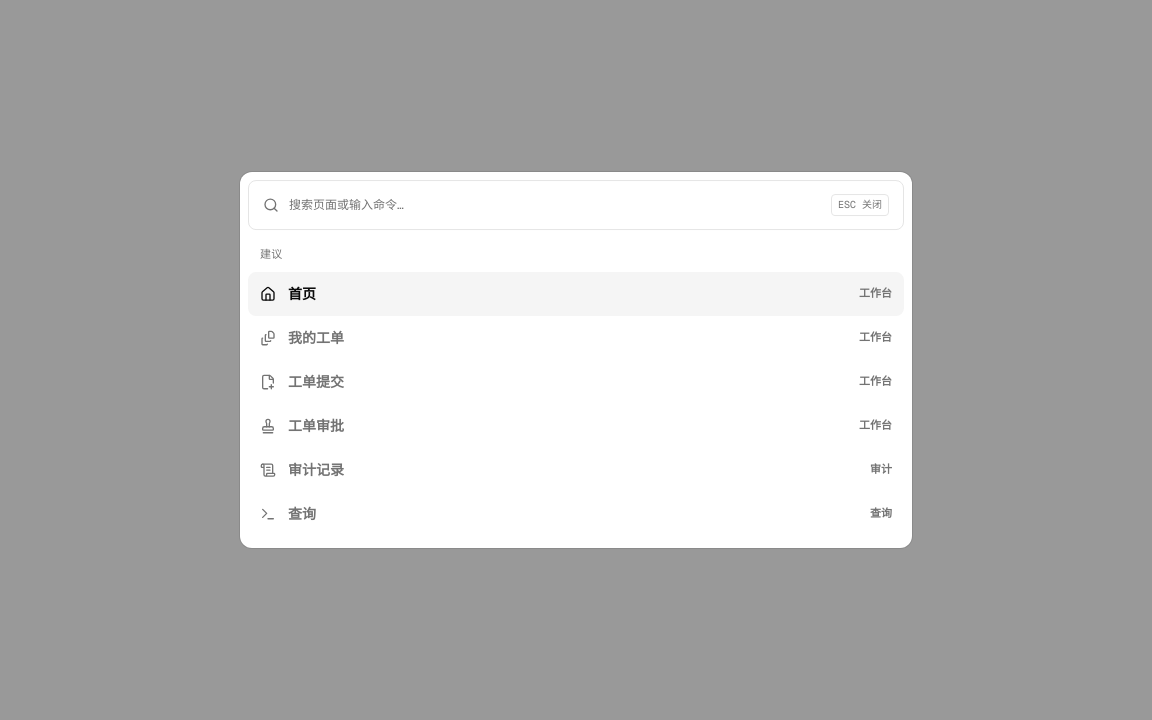
Test case: CommandMenu › shows the empty state when nothing matches
Expected: the list is shown, x1=248 y1=272 x2=904 y2=540
Type "zzz" into the dropdown.
click(555, 205); type("zzz")  # box x1=289 y1=181 x2=821 y2=229
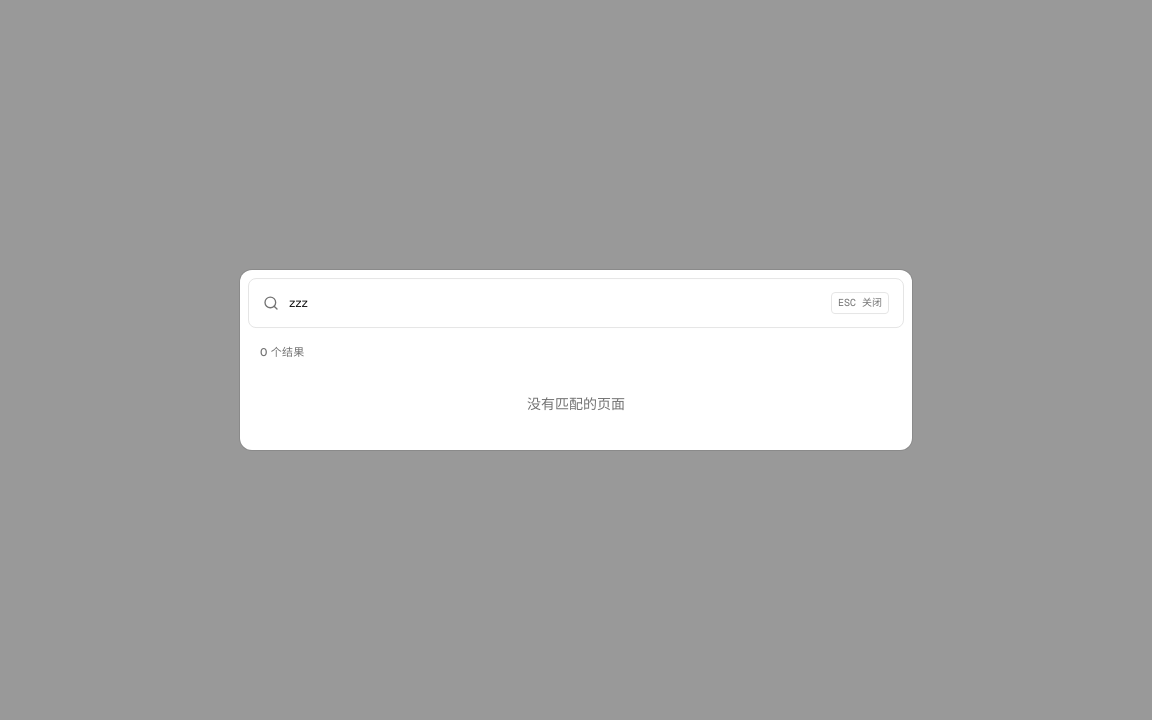
Result: the list item "没有匹配的页面" is shown at x1=527 y1=395 x2=625 y2=413
Result: no options are shown
